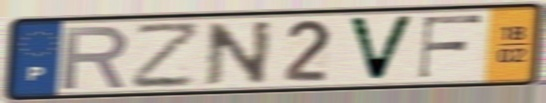2: (281, 17, 334, 83)
F: (415, 13, 486, 81)
N: (203, 18, 277, 88)
R: (58, 24, 133, 92)
V: (344, 14, 419, 84)
Z: (130, 19, 205, 91)
